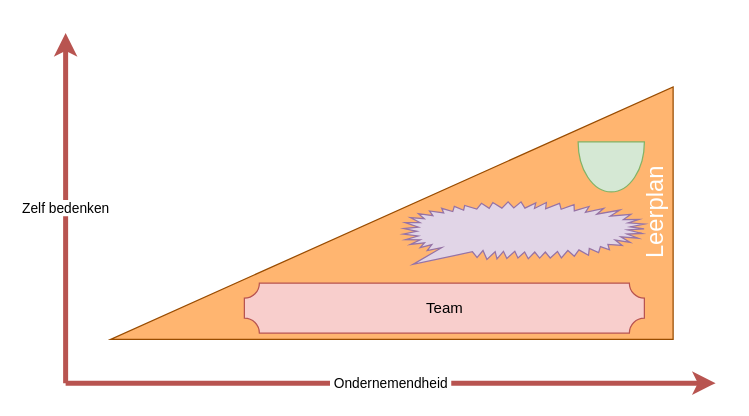
Some shapes in this 749 by 416 pixel diagram are drawn without their labels. The centre of each missing label's shape, as x and y in pixels:
"Challenge" goes at pixel 523 232.
"Cursus" goes at pixel 610 166.
